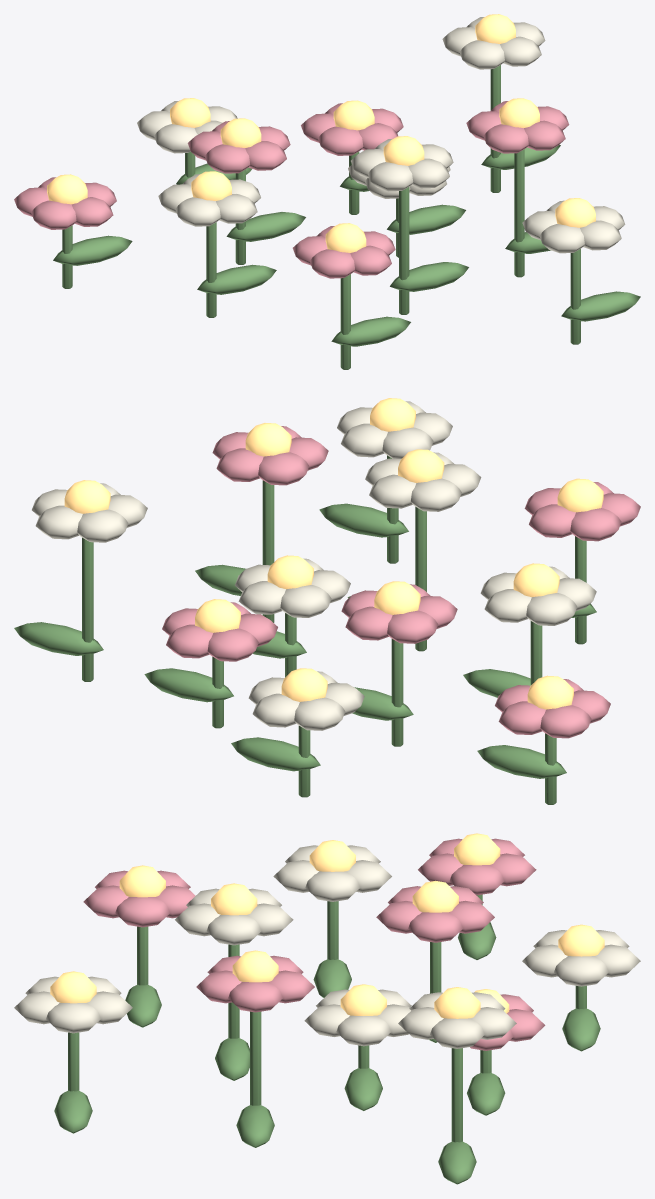
File: flower-patch.glb
3 renders of one model, top to bottom at view 1: azimuth 30°, elevation 25°; view 2: azimuth 150°, elevation 25°; view 3: azimuth 270°, elevation 25°, orthographic. The views are drawn at different scales.
Parts seen in each view (by area): view 1: flower-patch; view 2: flower-patch; view 3: flower-patch.
Part boxes in pixels (left/top/right/bottom): flower-patch: left=14, top=14, right=640, bottom=369; flower-patch: left=14, top=398, right=640, bottom=804; flower-patch: left=14, top=833, right=640, bottom=1184.
Size of the model in its own units: 1.45 by 0.462 by 1.37.
